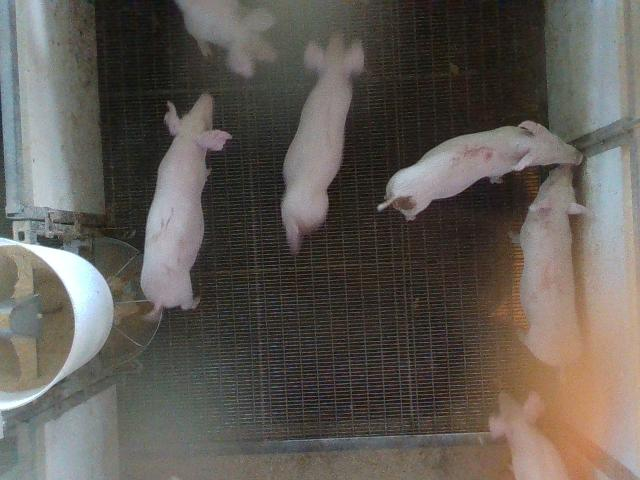pig-4: (520, 165, 585, 366)
pig-5: (378, 121, 582, 220)
